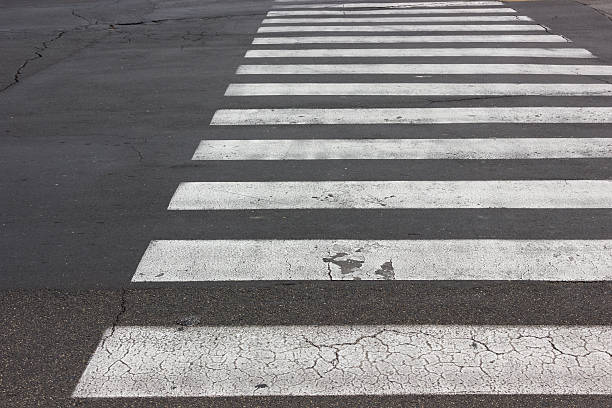zebracross: (211, 11, 603, 406)
